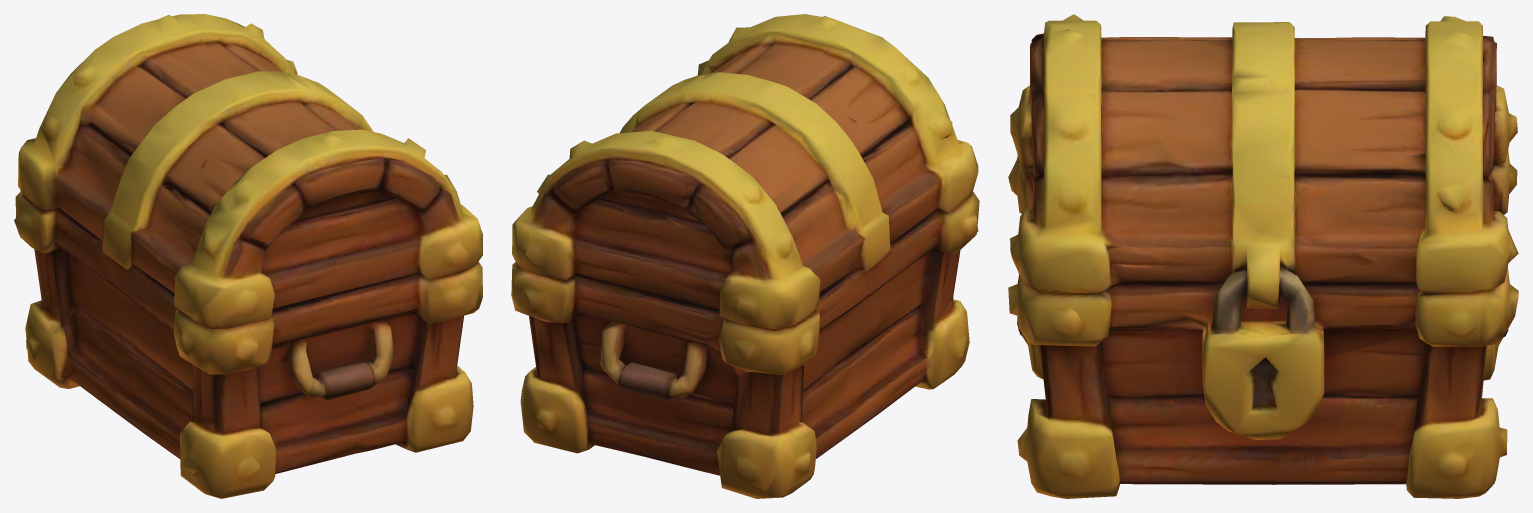
File: chest.glb
3 views of the same model, side by side, from view 1: azimuth 30°, elevation 25°; view 2: azimuth 150°, elevation 25°; view 3: azimuth 270°, elevation 25° (orthographic). The views are drawn at different scales.
Parts seen in each view (by area): view 1: tripo_node_5f8405da-4cce-4005-ae7f-d99795e15a85; view 2: tripo_node_5f8405da-4cce-4005-ae7f-d99795e15a85; view 3: tripo_node_5f8405da-4cce-4005-ae7f-d99795e15a85.
Boxes of the visible parts, x1,y1,x2,y2 form: tripo_node_5f8405da-4cce-4005-ae7f-d99795e15a85: (14,14,482,498); tripo_node_5f8405da-4cce-4005-ae7f-d99795e15a85: (511,14,979,498); tripo_node_5f8405da-4cce-4005-ae7f-d99795e15a85: (1008,14,1518,498).
Bounding box in the file's own units: 0.8484 × 0.854 × 1.
Materials: 1 (1 with a texture image).
